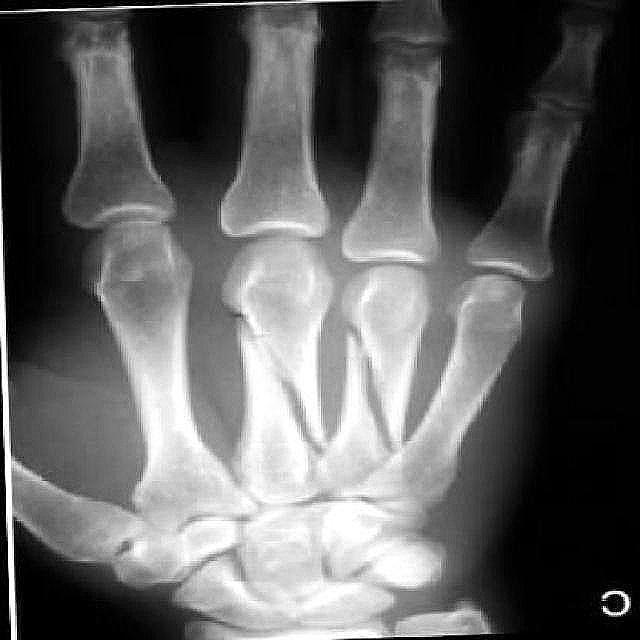bone: (218, 291, 334, 484), (336, 312, 410, 476)
